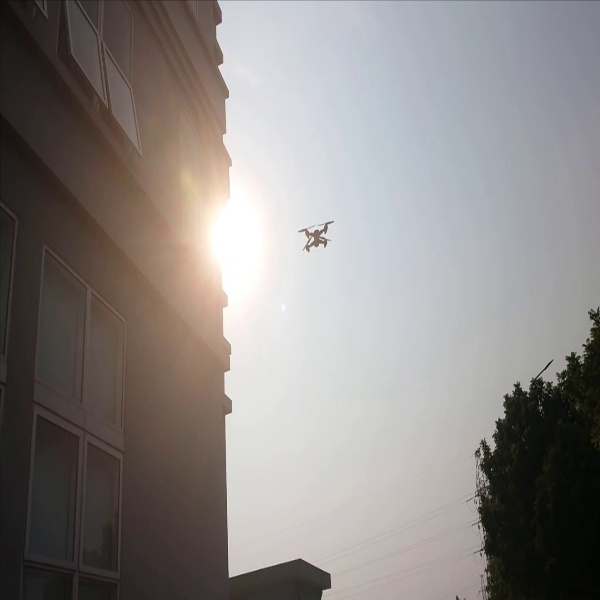drone: (283, 214, 341, 261)
